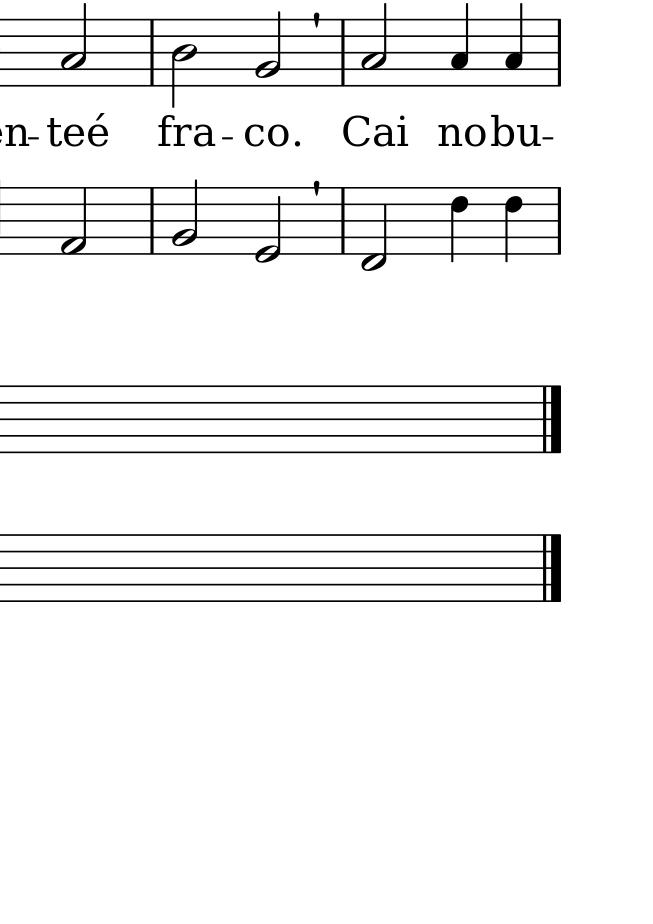2_-1: (361, 186, 388, 271)
2_0: (253, 183, 283, 265)
2_1: (60, 185, 88, 257)
2_2: (59, 3, 88, 86), (254, 9, 284, 87), (170, 178, 200, 255)
2_3: (360, 3, 389, 86)
2_4: (171, 21, 198, 103)
4_3: (449, 1, 471, 87), (503, 2, 525, 86)
4_6: (503, 185, 524, 265), (450, 184, 470, 264)
Final_barline: (537, 535, 564, 601), (538, 384, 563, 452)
Single_barline: (335, 188, 350, 255), (145, 20, 160, 86), (552, 20, 567, 86), (552, 188, 567, 254), (336, 20, 350, 87), (146, 189, 159, 253)
